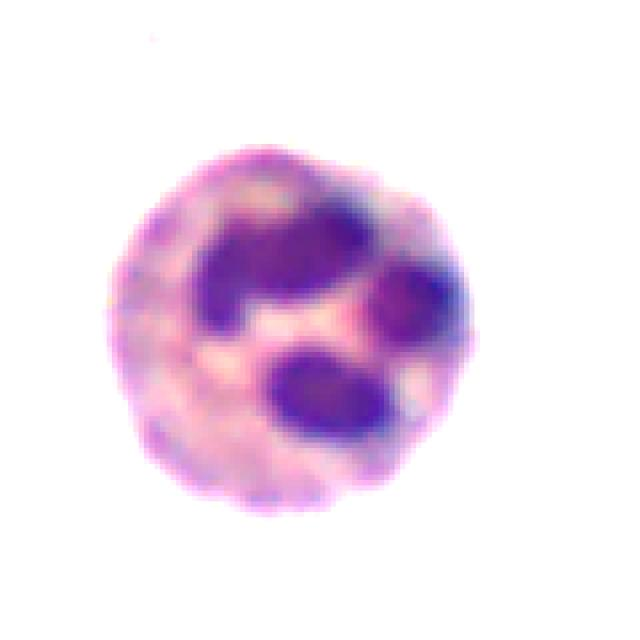WBC: (91, 133, 496, 528)
